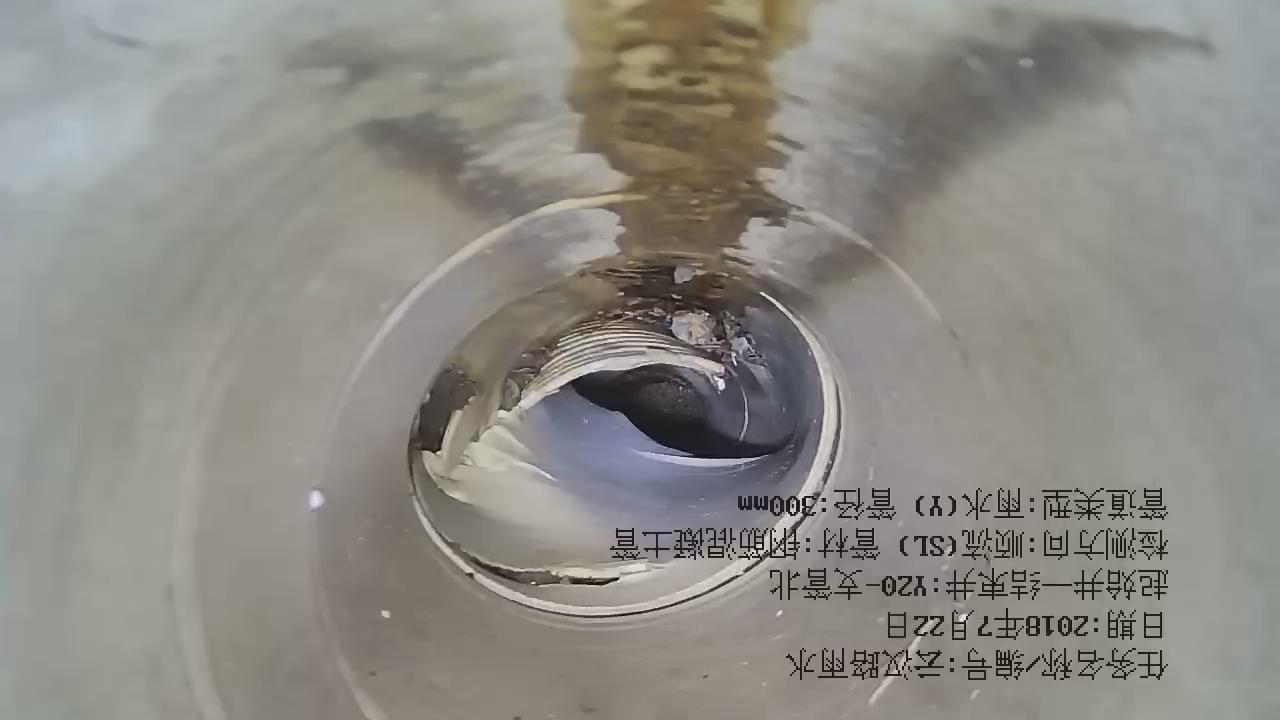BX: (363, 261, 830, 631)
CKTJ: (413, 300, 844, 624)
PL: (420, 519, 663, 597), (384, 349, 498, 485)
